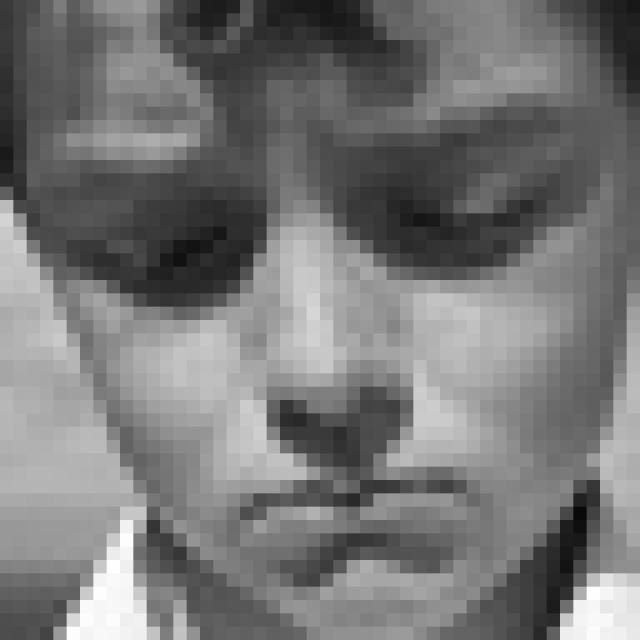sad: (62, 78, 596, 592)
